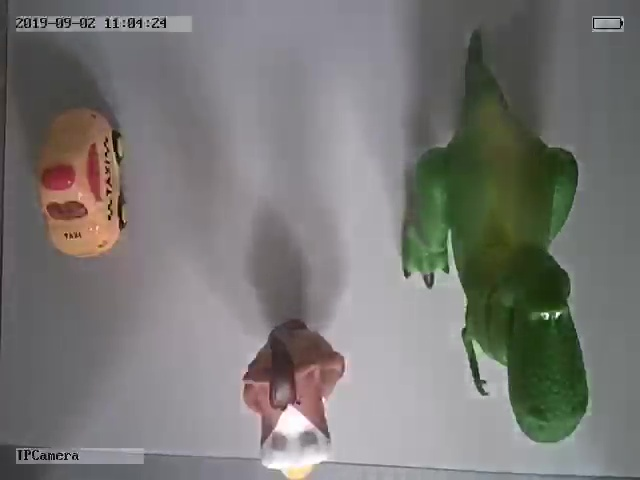car: (37, 104, 131, 261)
horse: (240, 320, 345, 479)
rex: (401, 46, 589, 446)
